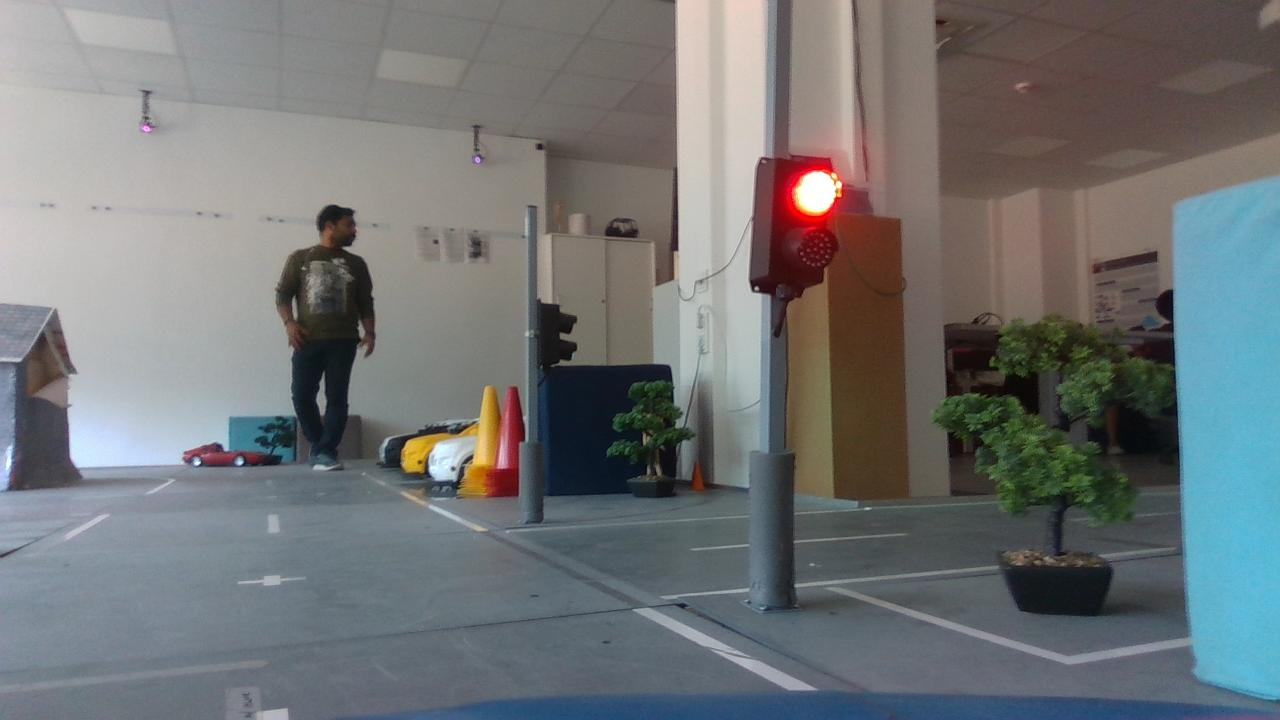traffic_light_red: (737, 133, 851, 314)
